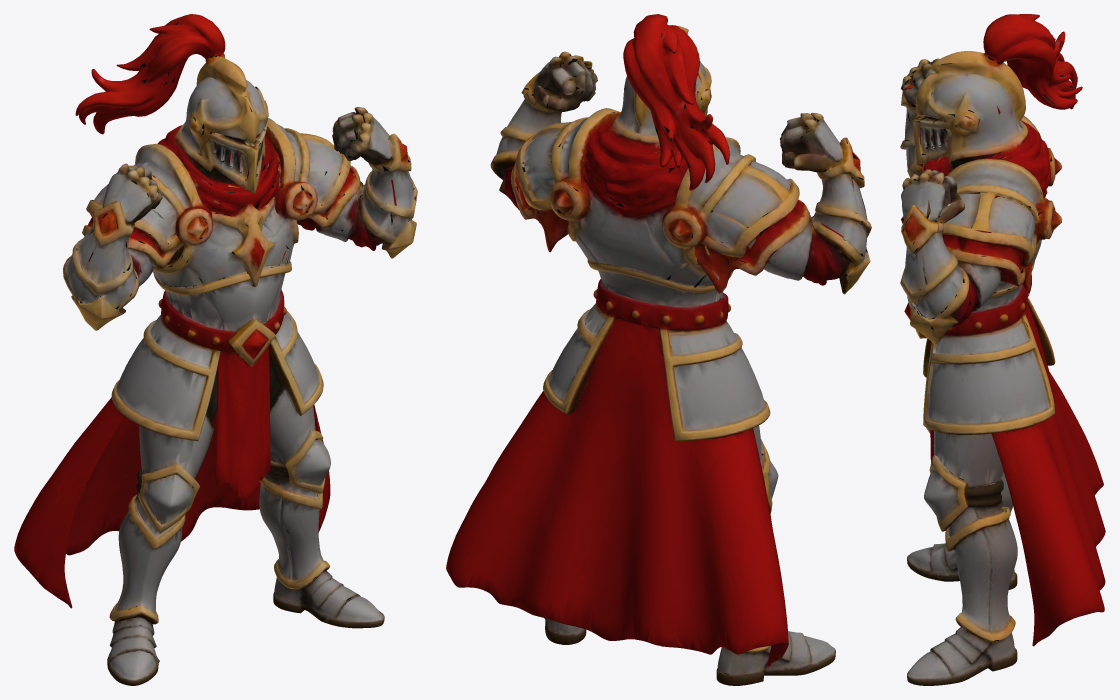
File: flexing_knight_model_segmented.fbx
3 renders of one model, left to right at view 1: azimuth 30°, elevation 25°; view 2: azimuth 150°, elevation 25°; view 3: azimuth 270°, elevation 25°, orthographic. The views are drawn at different scales.
Visible parts, largest first — view 1: tripo_part_6, tripo_part_0, tripo_part_3; view 2: tripo_part_0, tripo_part_6, tripo_part_3; view 3: tripo_part_6, tripo_part_0, tripo_part_3.
Boxes of the visible parts, x1,y1,x2,y2 form: tripo_part_6: [63, 14, 417, 330]; tripo_part_0: [14, 360, 384, 685]; tripo_part_3: [110, 262, 323, 500]; tripo_part_0: [446, 319, 835, 685]; tripo_part_6: [490, 14, 871, 294]; tripo_part_3: [543, 260, 770, 441]; tripo_part_6: [900, 14, 1082, 344]; tripo_part_0: [907, 303, 1105, 685]; tripo_part_3: [904, 261, 1055, 462].
Size of the model in its own units: 58.81 by 30.94 by 100.
Materials: 3 (3 with a texture image).
